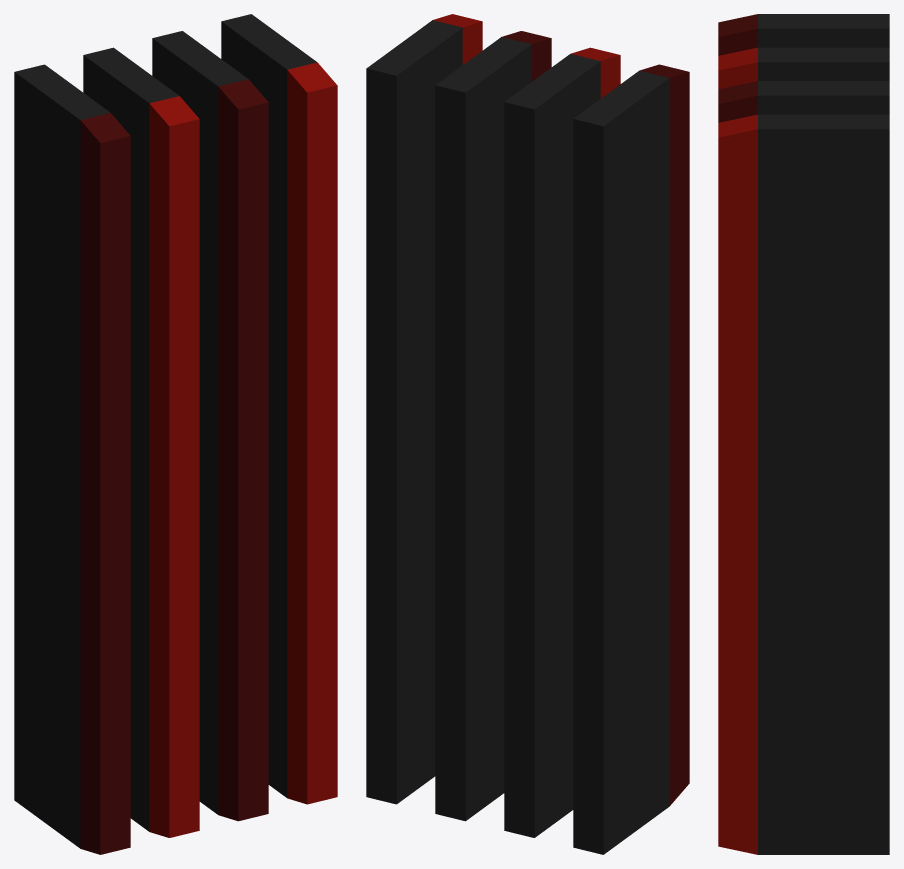
The model's file is RAM.obj.
3 renders of one model, left to right at view 1: azimuth 30°, elevation 25°; view 2: azimuth 150°, elevation 25°; view 3: azimuth 270°, elevation 25°, orthographic.
Visible parts, largest first — view 1: RAM_Cube.190; view 2: RAM_Cube.190; view 3: RAM_Cube.190.
Boxes of the visible parts, x1,y1,x2,y2 form: RAM_Cube.190: (14,14,337,854); RAM_Cube.190: (366,14,689,854); RAM_Cube.190: (718,14,889,854).
Bounding box in the file's own units: 1.24 × 3.65 × 0.7799.
